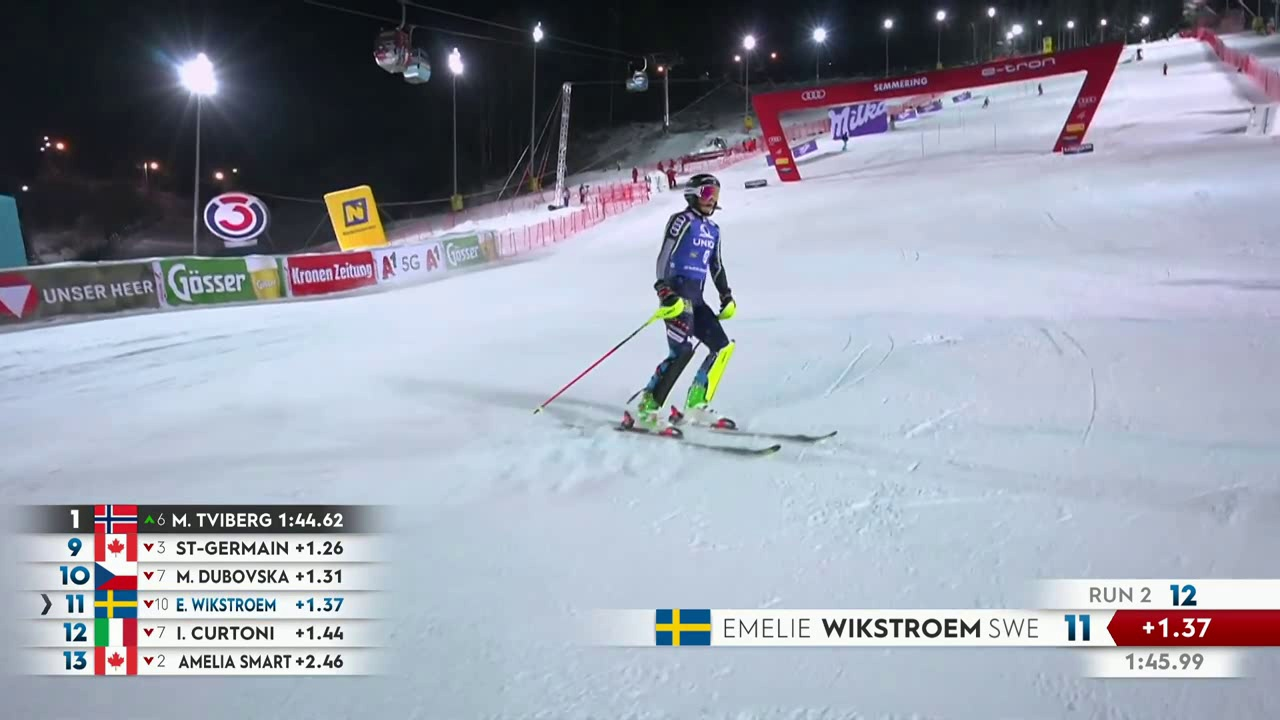goesser: (160, 261, 260, 305), (444, 239, 485, 271)
kronenzeitung: (290, 251, 370, 299)
milka: (827, 101, 887, 143)
unserheer: (14, 271, 161, 321)
